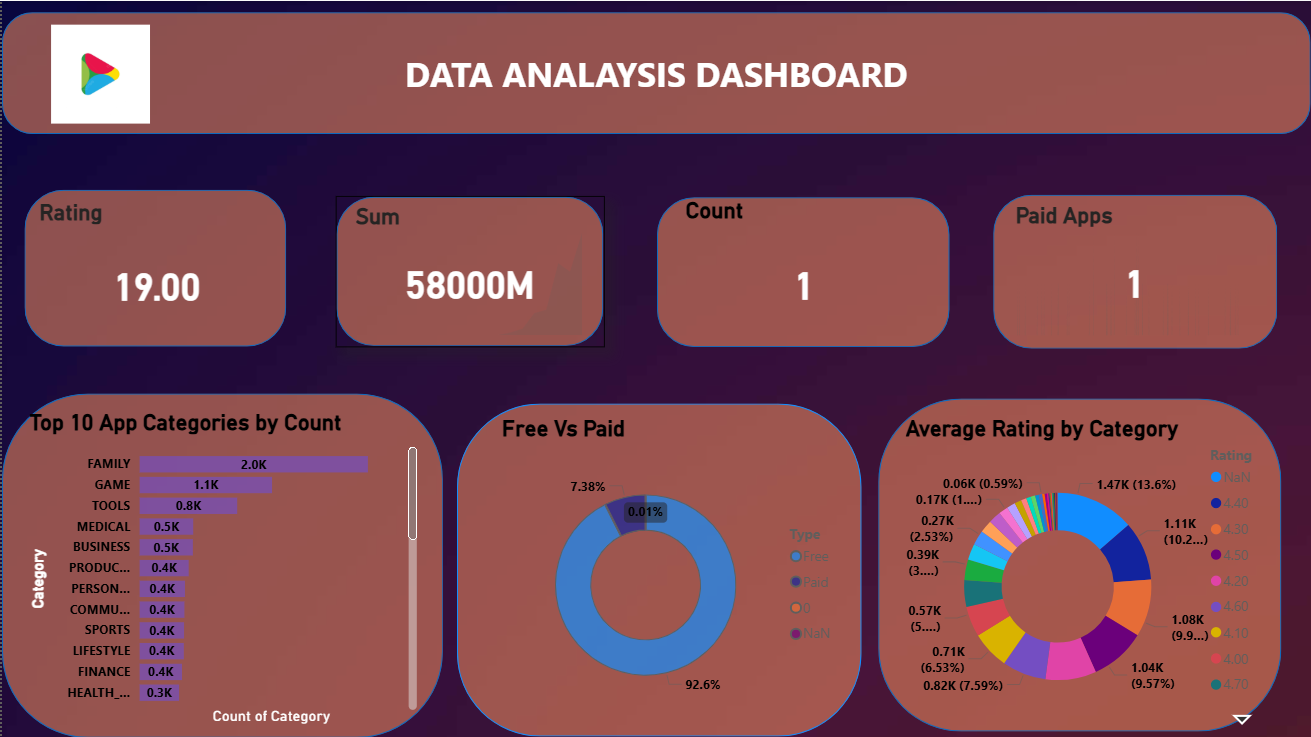

This screenshot's page, from the dashboard's own definition file:
{"tool":"powerbi","page":{"name":"Page 1","canvas":[1280,720],"ordinal":0},"visuals":[{"type":"shape","box":[21.9,184.9,256.1,153.4],"z":0},{"type":"shape","title":"Play Store","box":[0,11,1280.3,118.6],"z":1000},{"type":"shape","box":[325.9,190.3,262.9,147.9],"z":2000},{"type":"shape","box":[640.8,191.7,286.2,146.5],"z":3000},{"type":"shape","box":[969.5,189,278,150.6],"z":4000},{"type":"kpi","title":"Rating","fields":{"Indicator":["Avg(googleplaystore.Rating)"],"TrendLine":["googleplaystore.Rating"]},"box":[31.5,194.4,239.6,146.5],"z":5000},{"type":"kpi","title":"Sum","fields":{"Indicator":["Sum(googleplaystore.Installs)"],"TrendLine":["googleplaystore.Installs"]},"box":[341,198.5,231.4,134.2],"z":6000},{"type":"kpi","title":"Count ","fields":{"Indicator":["Count(googleplaystore.App)"],"TrendLine":["googleplaystore.App"]},"box":[664.1,191.7,241,149.3],"z":7000},{"type":"kpi","title":"Paid Apps","fields":{"TrendLine":["googleplaystore.App"],"Indicator":["googleplaystore.Paid Apps"]},"box":[987.3,197.2,242.4,135.6],"z":8000},{"type":"shape","box":[0,383.4,431.3,336.8],"z":9000},{"type":"barChart","title":"Top 10  App Categories by Count","fields":{"Category":["googleplaystore.Category"],"Y":["CountNonNull(googleplaystore.Category)"]},"box":[21.8,399.9,389,312.6],"z":10000},{"type":"shape","box":[445,394.4,395.7,325.9],"z":11000},{"type":"shape","box":[857.2,388.9,394.4,325.9],"z":12000},{"type":"donutChart","title":"Free Vs Paid","fields":{"Category":["googleplaystore.Type"],"Y":["CountNonNull(googleplaystore.Type)"]},"box":[484.5,405.4,341.2,307.1],"z":13000},{"type":"donutChart","title":"Average Rating by Category","fields":{"Category":["googleplaystore.Rating"],"Y":["CountNonNull(googleplaystore.Category)"]},"box":[879,405.4,368.5,309.8],"z":14000},{"type":"image","box":[0,37.9,165.1,91.7],"z":15000}]}

Visuals, with their boxes in screenshot pixels (x1, y1, x2, y2), scaled from the page's 1280x720 canvas onto the 1311x737 screenshot:
shape: locate(22, 189, 285, 346)
"Play Store" shape: locate(0, 11, 1310, 133)
shape: locate(334, 195, 603, 346)
shape: locate(656, 196, 949, 346)
shape: locate(993, 193, 1278, 348)
"Rating" kpi: locate(32, 199, 278, 349)
"Sum" kpi: locate(349, 203, 586, 341)
"Count " kpi: locate(680, 196, 927, 349)
"Paid Apps" kpi: locate(1011, 202, 1259, 341)
shape: locate(0, 392, 442, 736)
"Top 10  App Categories by Count" barChart: locate(22, 409, 421, 729)
shape: locate(456, 404, 861, 736)
shape: locate(878, 398, 1282, 732)
"Free Vs Paid" donutChart: locate(496, 415, 846, 729)
"Average Rating by Category" donutChart: locate(900, 415, 1278, 732)
image: locate(0, 39, 169, 133)
